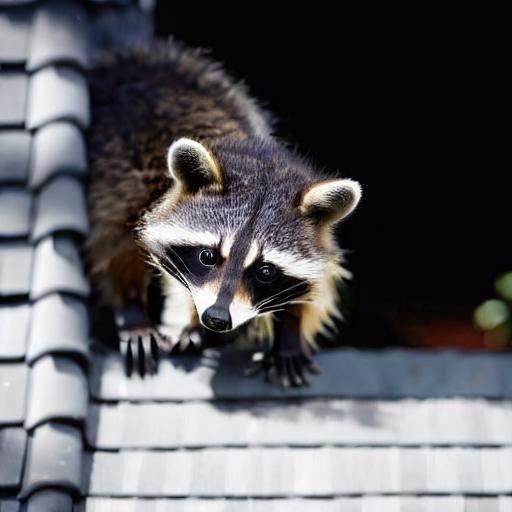raccoon: (91, 34, 378, 345)
